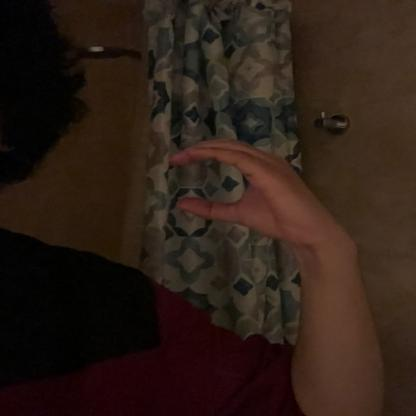C: (161, 133, 330, 237)
